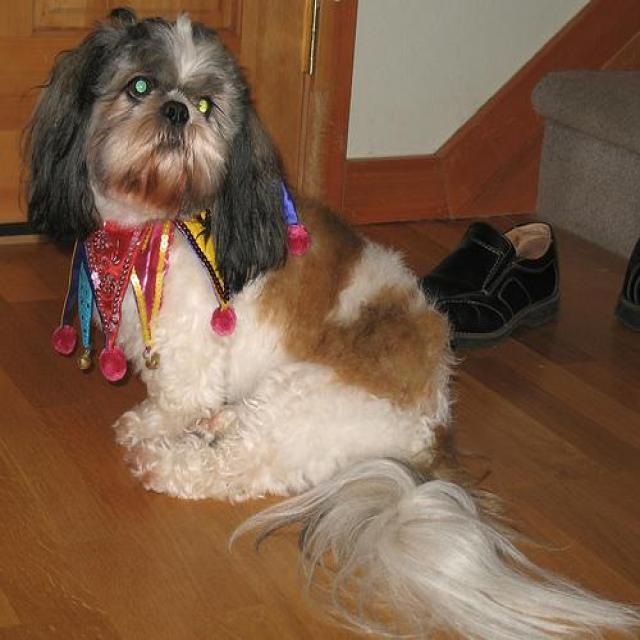shih_tzu: (25, 17, 635, 637)
